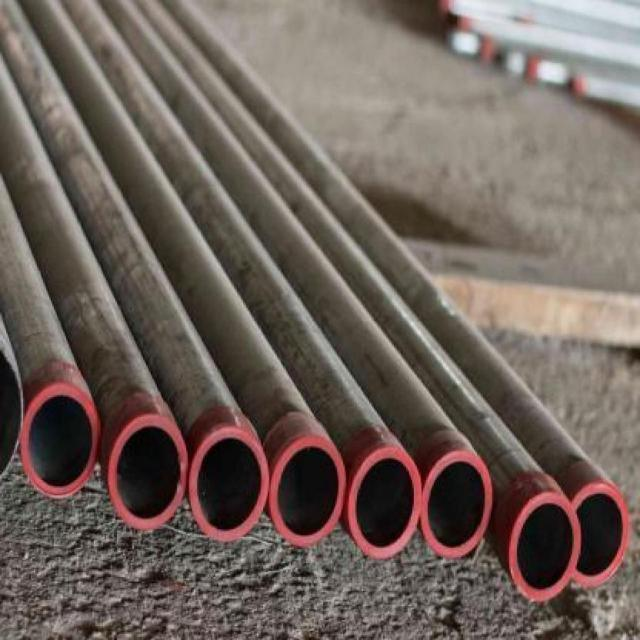pipe: (105, 413, 193, 533), (187, 425, 275, 545), (17, 379, 100, 504), (343, 447, 426, 561), (419, 444, 496, 561), (267, 437, 349, 545), (505, 491, 581, 605), (568, 481, 628, 589)
